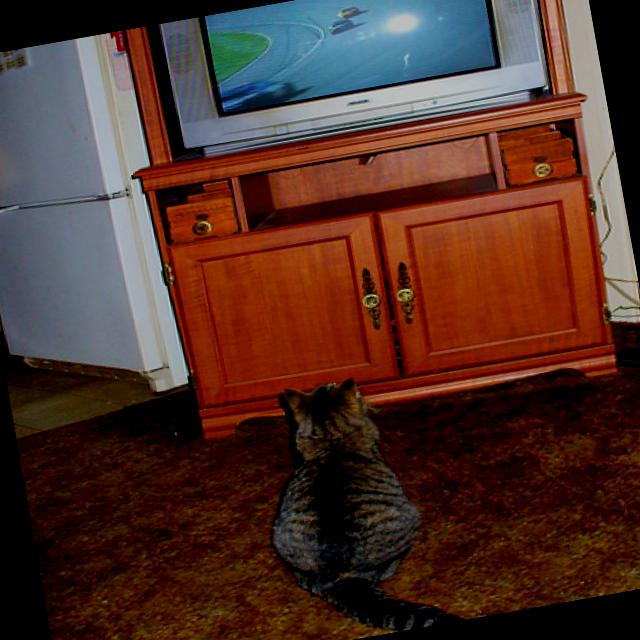Vehicle: (326, 16, 354, 34)
